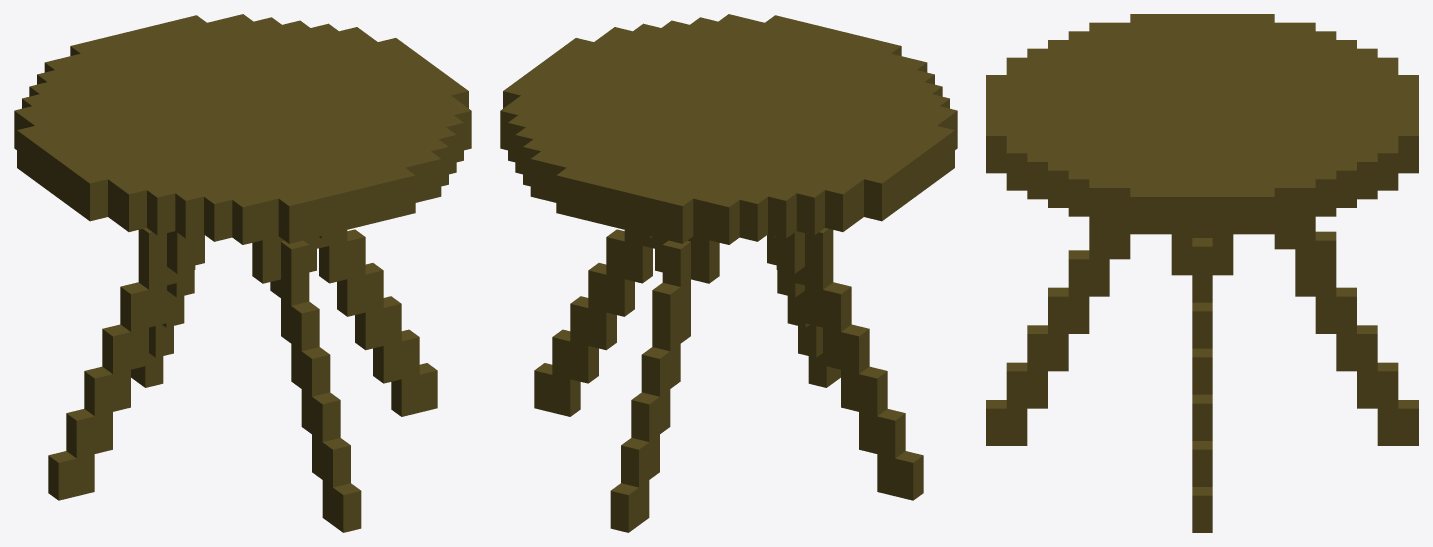
The model's file is Cafe_Desk2-1.fbx.
3 renders of one model, left to right at view 1: azimuth 30°, elevation 25°; view 2: azimuth 150°, elevation 25°; view 3: azimuth 270°, elevation 25°, orthographic.
Parts seen in each view (by area): view 1: Cafe Desk2-1; view 2: Cafe Desk2-1; view 3: Cafe Desk2-1.
Boxes of the visible parts, bbox=[...] form: Cafe Desk2-1: bbox=[14, 14, 471, 532]; Cafe Desk2-1: bbox=[500, 14, 957, 532]; Cafe Desk2-1: bbox=[986, 14, 1418, 532].
Size of the model in its own units: 2.1 by 1.8 by 2.1.
